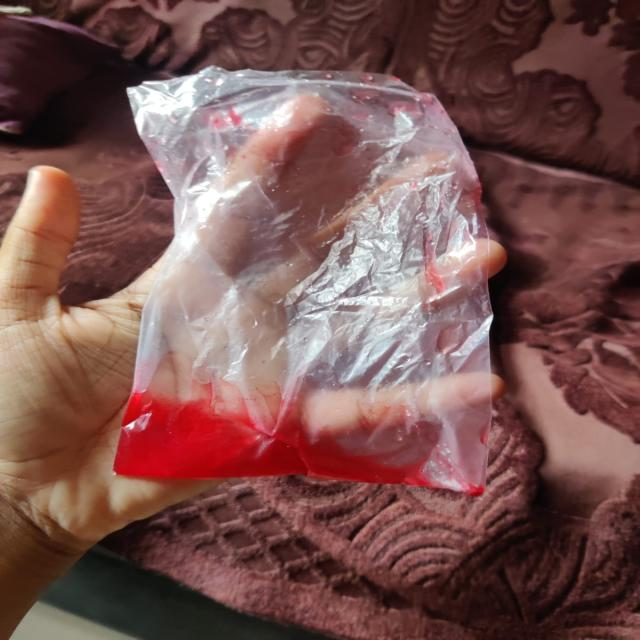Dry: (120, 68, 488, 494)
